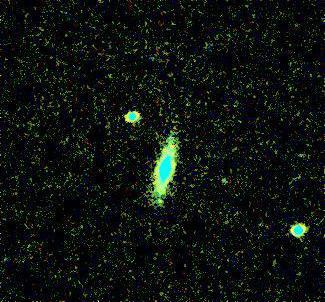star: (147, 188, 177, 218)
